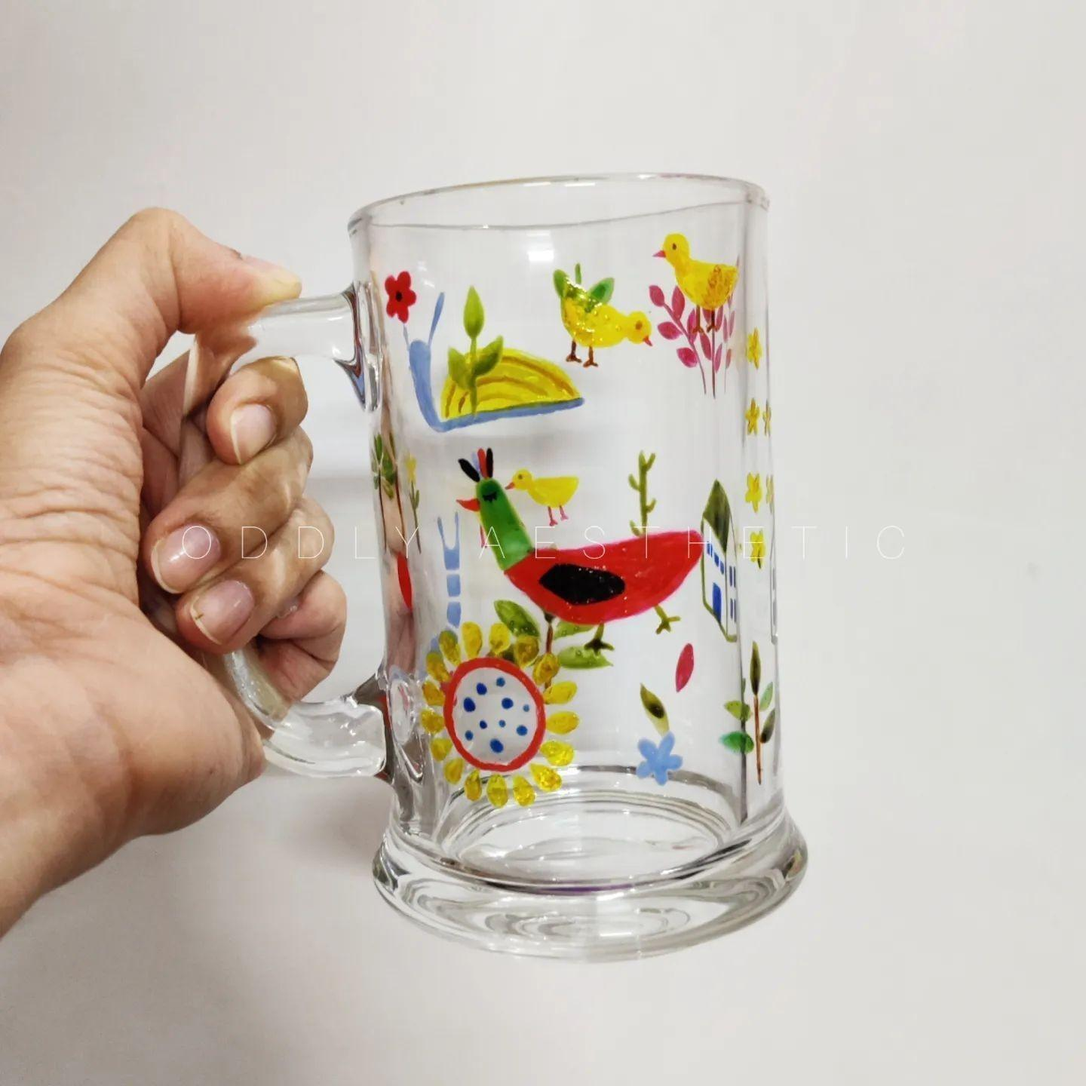glass-mug: (168, 161, 818, 980)
